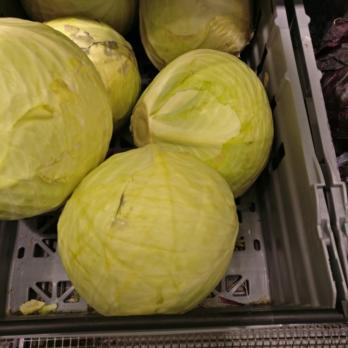Cabbage: (53, 141, 237, 315), (1, 13, 110, 217), (133, 49, 275, 192), (130, 0, 255, 59)
